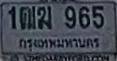1: (8, 5, 15, 28)
5: (92, 5, 104, 28)
6: (78, 6, 89, 28)
9: (64, 5, 75, 28)
A06: (37, 5, 51, 28)
A18: (19, 5, 35, 29)
BKK: (18, 35, 101, 53)
